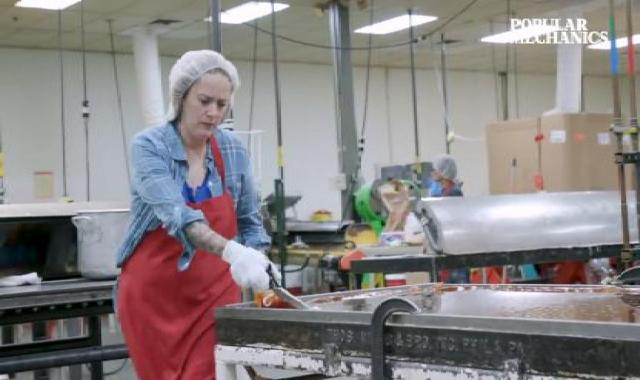hairnet: (162, 48, 242, 134)
